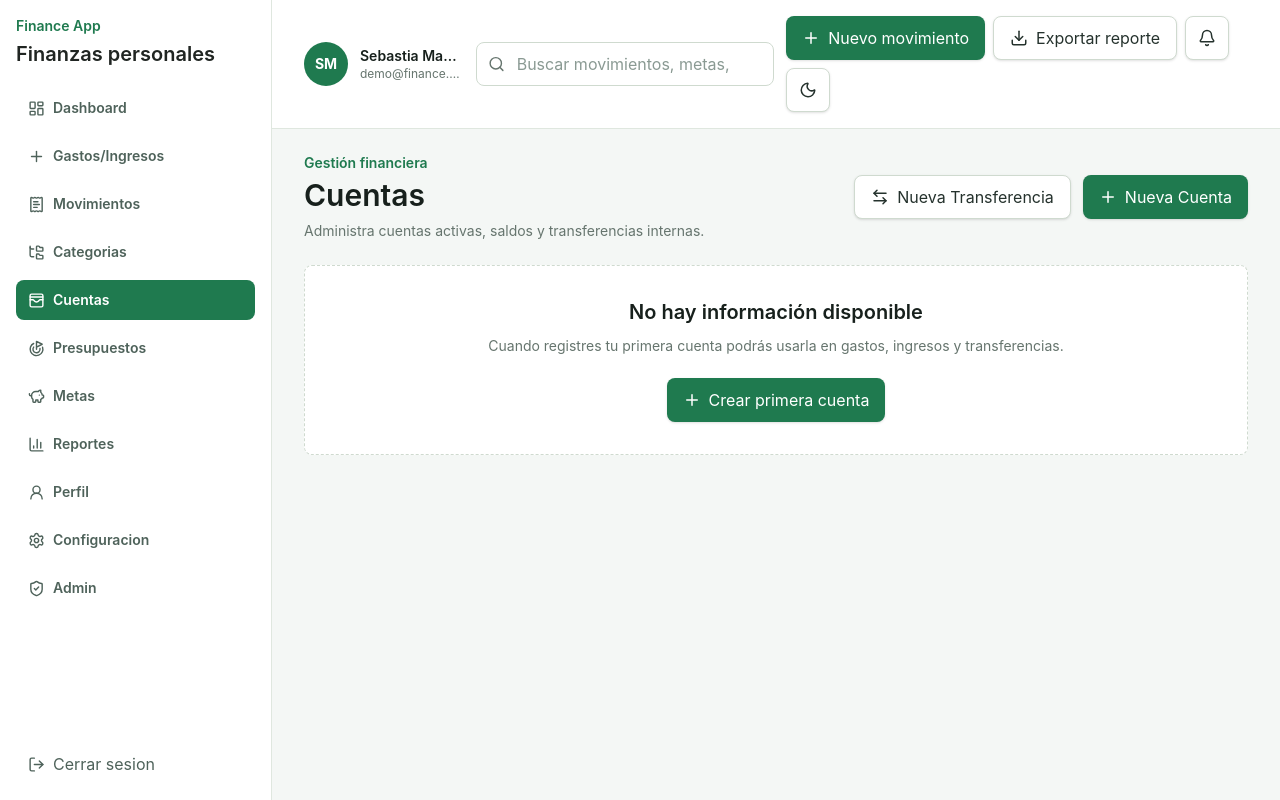
Test: HU-02 Gestion Financiera Core › permite crear la primera cuenta desde /accounts
Expected: the heading "Cuentas" is shown, [304,177,425,213]
Expected: the heading "No hay información disponible" is shown, [629,300,923,324]
Click the button "Nueva Cuenta" at [1165, 197], box [1083,175,1248,219]
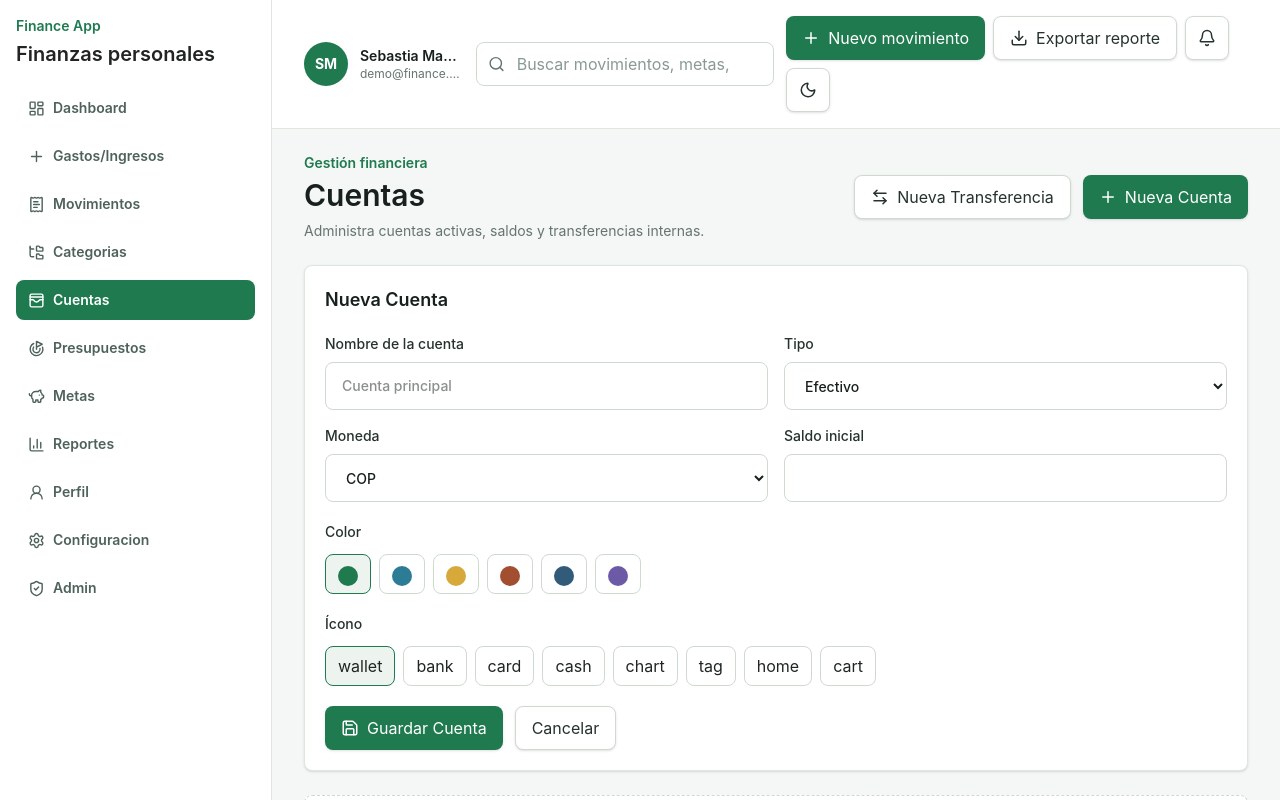
Type "Cuenta nomina" into the field labelled "Nombre de la cuenta" at [546, 386], box [325,362,768,410]
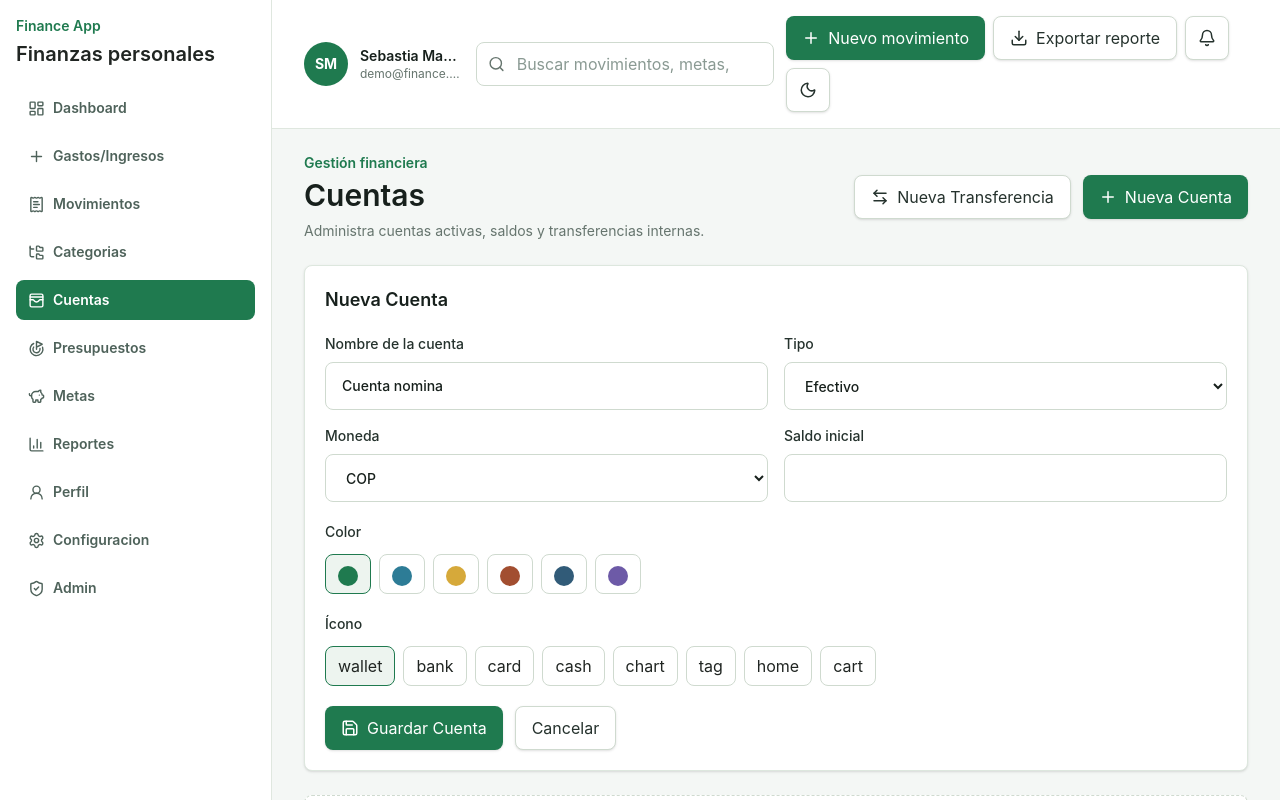
Type "1500000" into the number field labelled "Saldo inicial" at [1006, 478], box [784,454,1227,502]
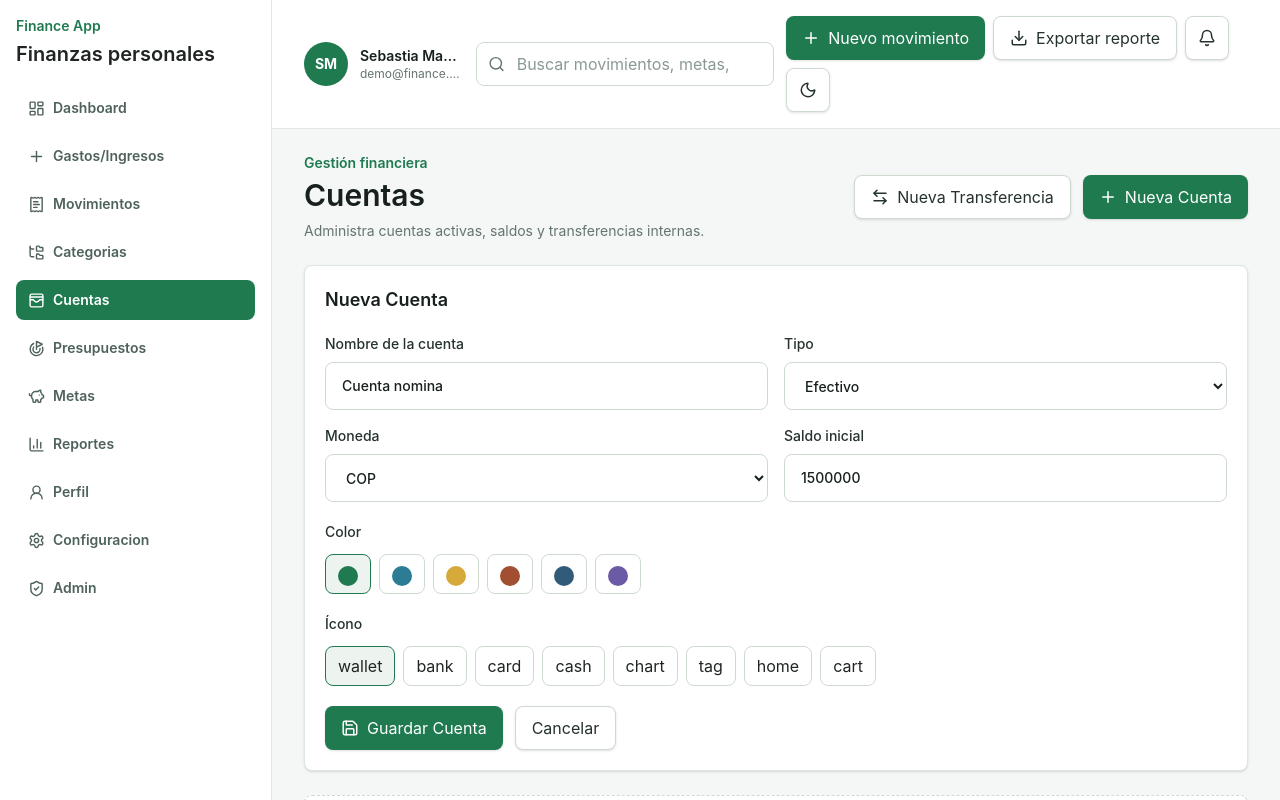
Click the button "Guardar Cuenta" at [414, 728], box [325,706,503,750]
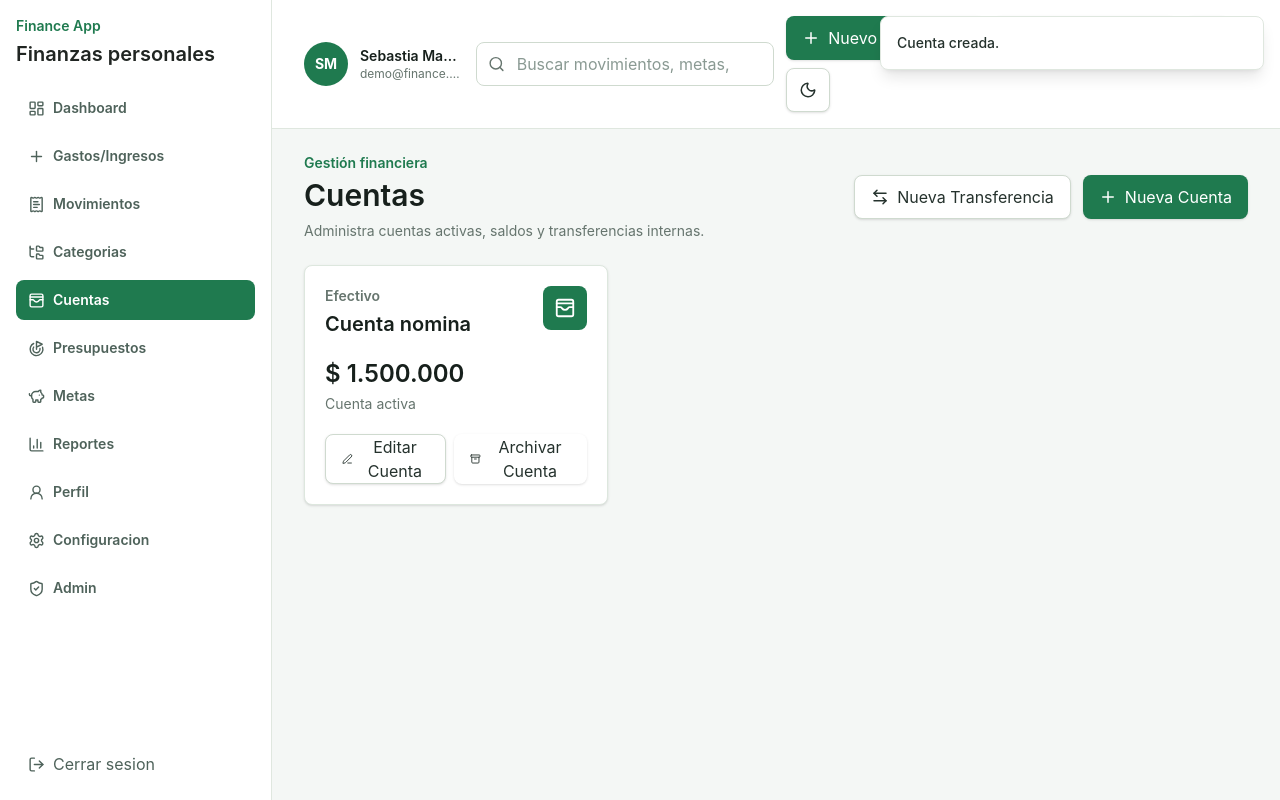
Result: the heading "Cuenta nomina" is shown at [325,310,471,338]
Result: the text "$ 1.500.000" is shown at [325,359,464,388]
